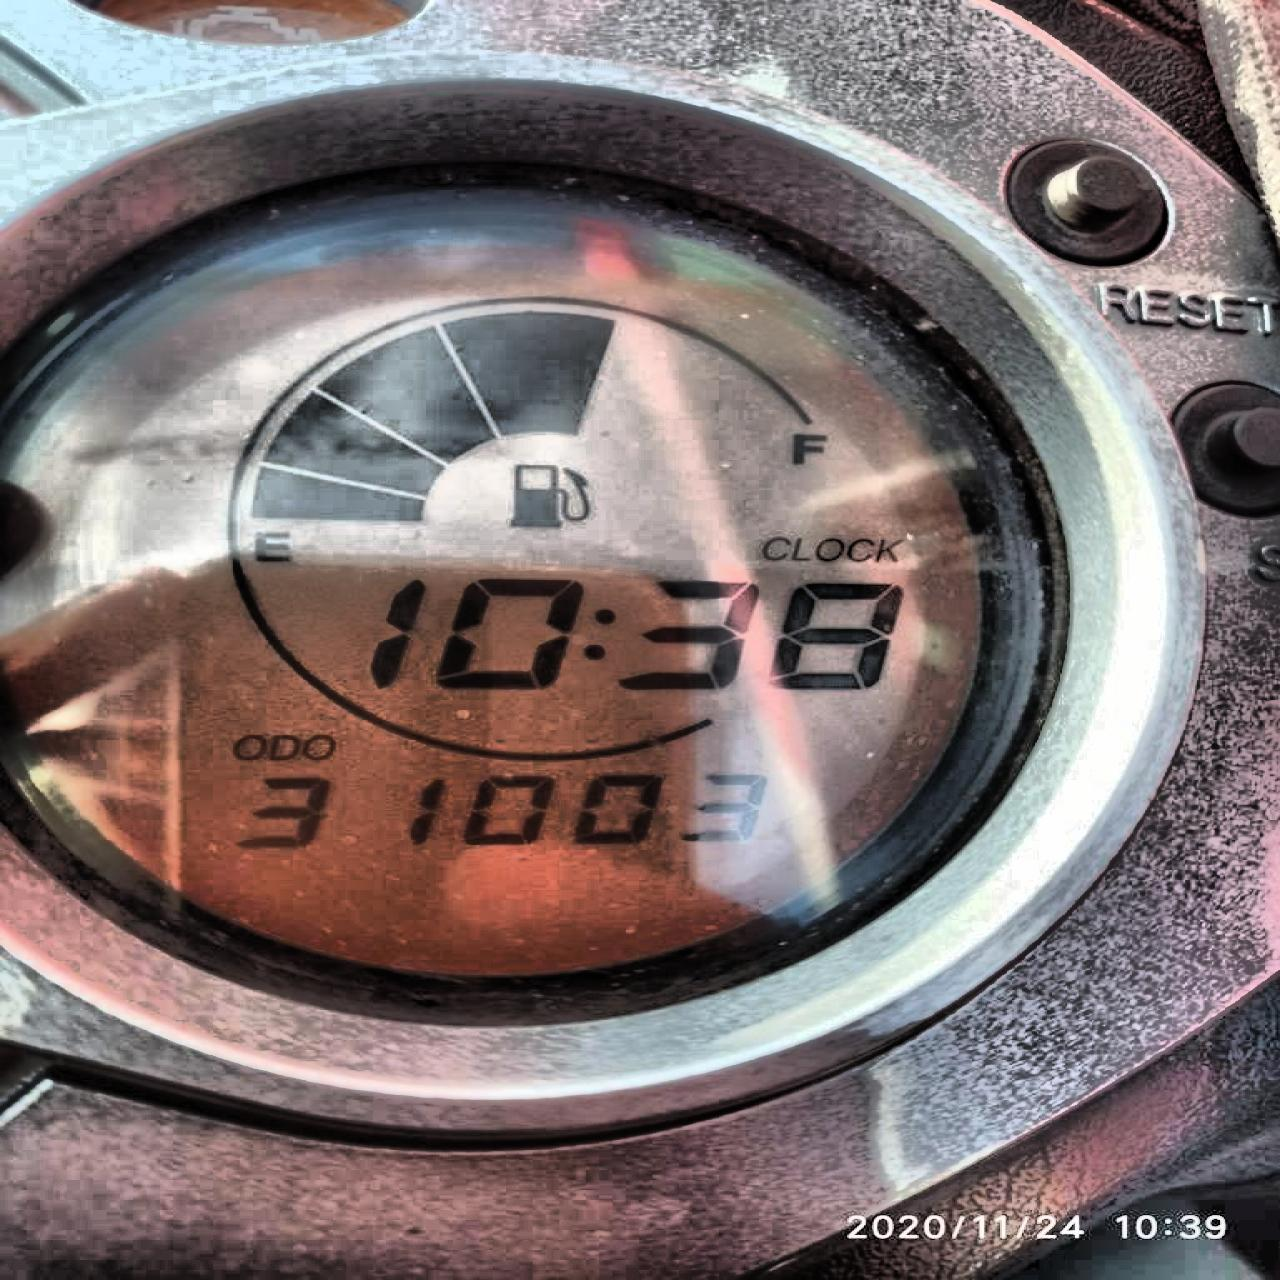0: (438, 575, 579, 694), (461, 775, 554, 845), (570, 772, 662, 842)
1: (363, 572, 426, 696), (408, 776, 443, 844)
3: (622, 575, 762, 694), (236, 775, 328, 847), (682, 771, 768, 841)
8: (776, 578, 907, 692)
X: (581, 602, 614, 664), (250, 529, 296, 565), (789, 429, 829, 466), (265, 732, 298, 762), (230, 732, 264, 760), (301, 732, 333, 760), (812, 535, 844, 561), (875, 535, 904, 561), (761, 534, 789, 560), (845, 538, 874, 562), (789, 536, 811, 562)
odometer: (0, 175, 995, 1025)
